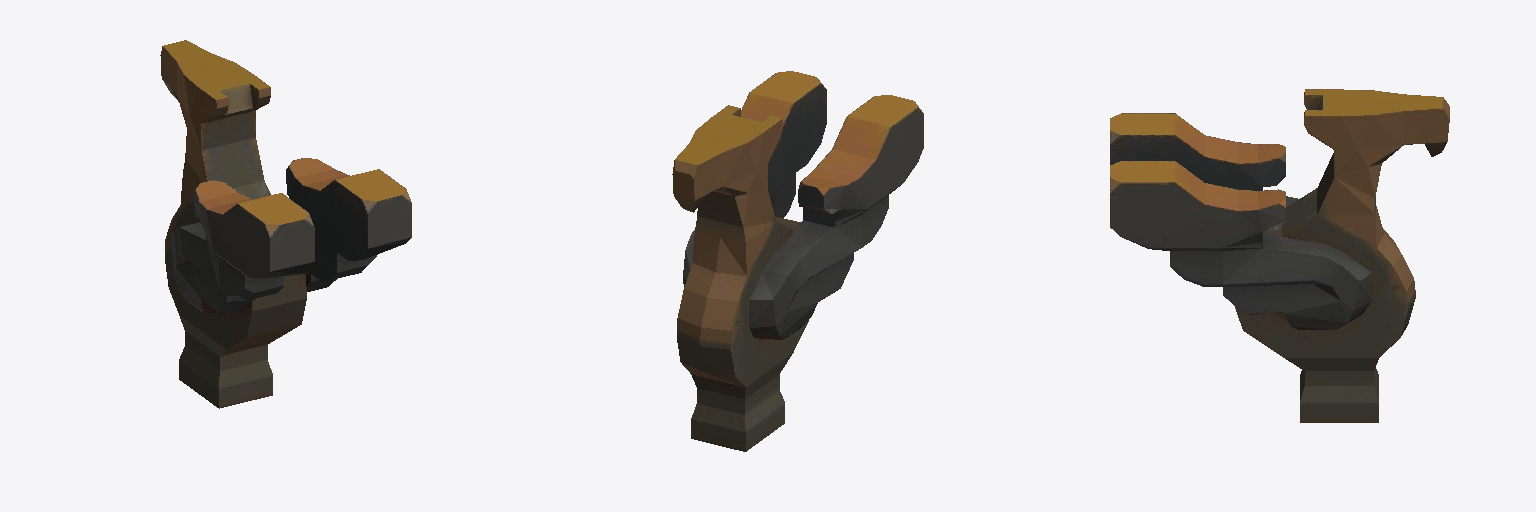
The picture shows the model from 3 angles: view 1: azimuth 30°, elevation 25°; view 2: azimuth 150°, elevation 25°; view 3: azimuth 270°, elevation 25°; orthographic projection.
Visible parts, largest first — view 1: OBJ_Sculpture_05; view 2: OBJ_Sculpture_05; view 3: OBJ_Sculpture_05.
Part boxes in pixels (bbox=[...]): OBJ_Sculpture_05: bbox=[160, 40, 411, 408]; OBJ_Sculpture_05: bbox=[672, 71, 923, 451]; OBJ_Sculpture_05: bbox=[1110, 89, 1449, 422].
Size of the model in its own units: 1.27 by 2.63 by 2.65.
Materials: 1 (1 with a texture image).